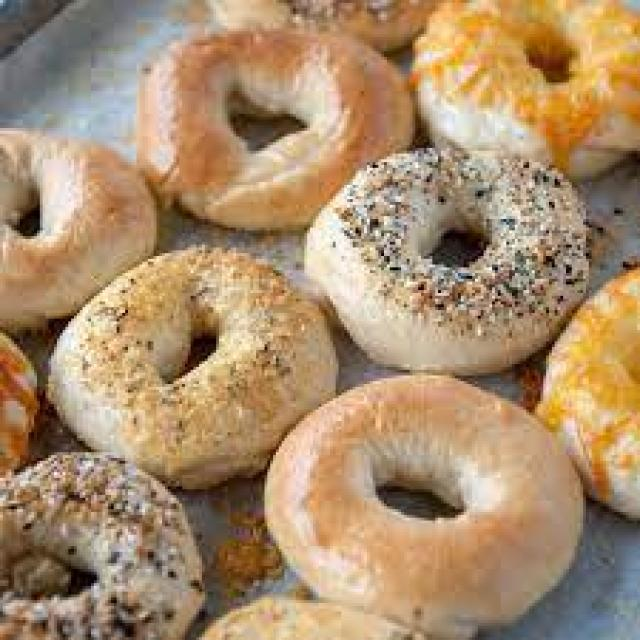Bagel: (265, 374, 582, 638), (49, 248, 338, 488), (306, 148, 584, 374), (141, 29, 409, 229), (0, 452, 204, 640), (0, 129, 155, 329), (536, 268, 640, 518)
